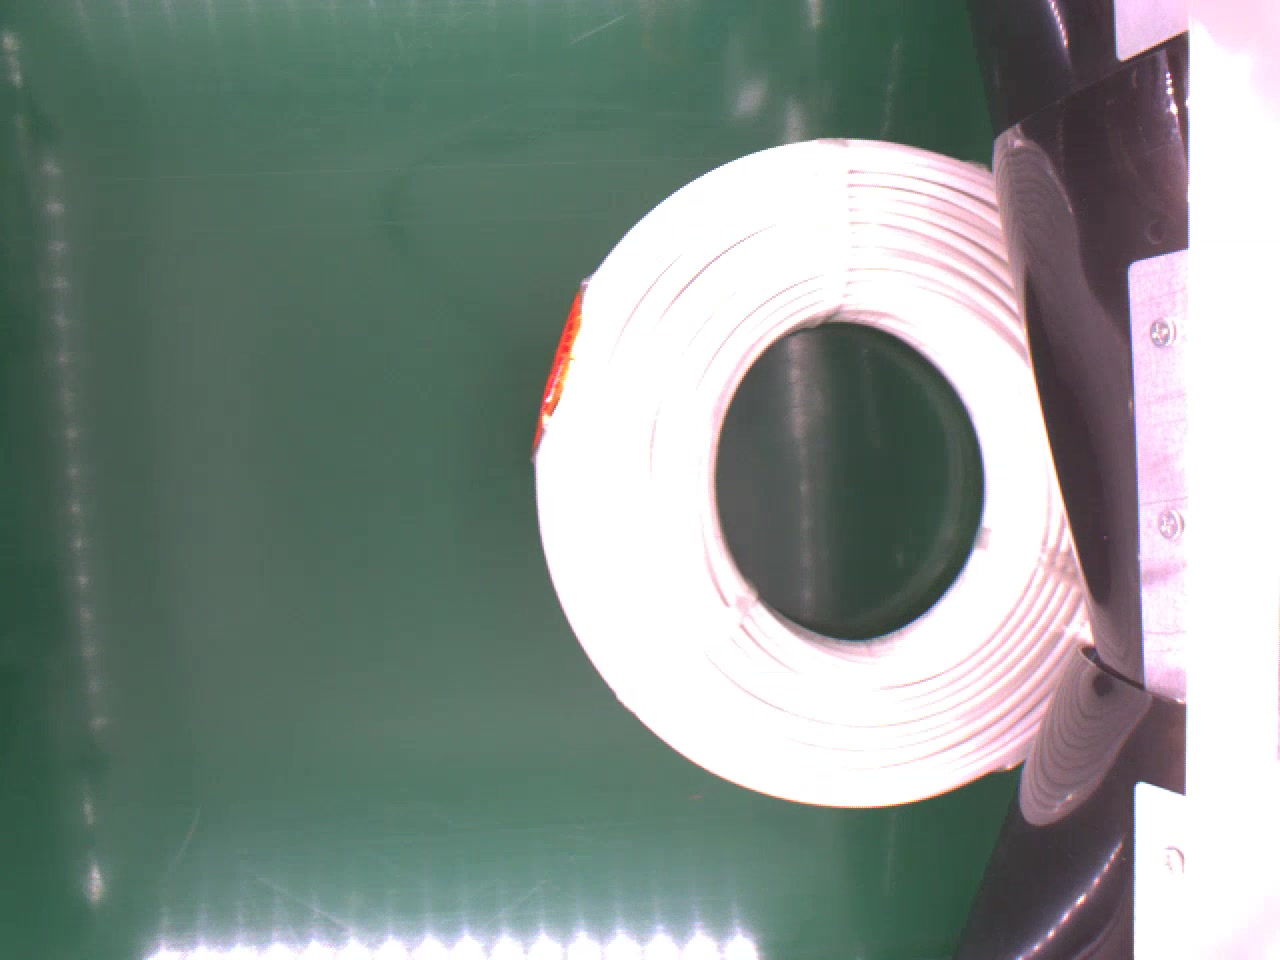white: (533, 135, 1102, 823)
